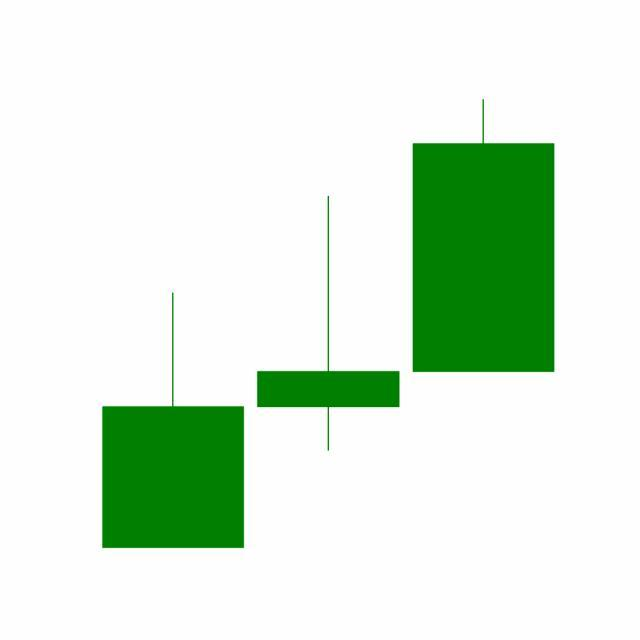Spinning Top: (250, 194, 407, 455)
